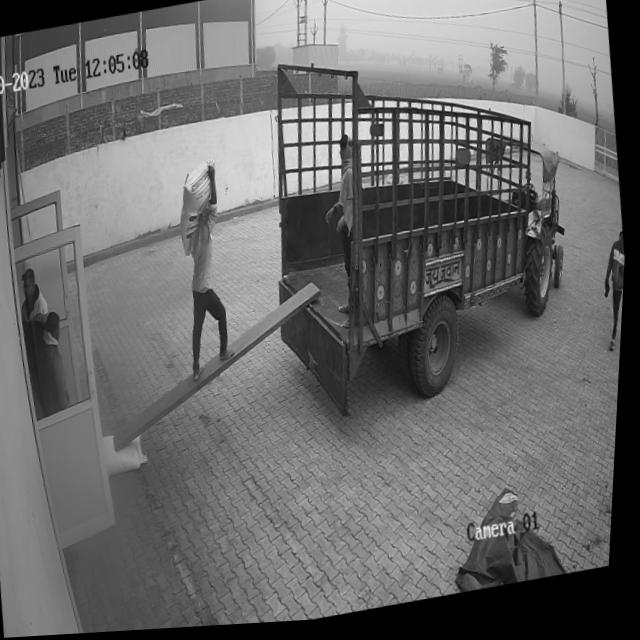sack: (174, 166, 221, 258), (104, 427, 155, 479)
